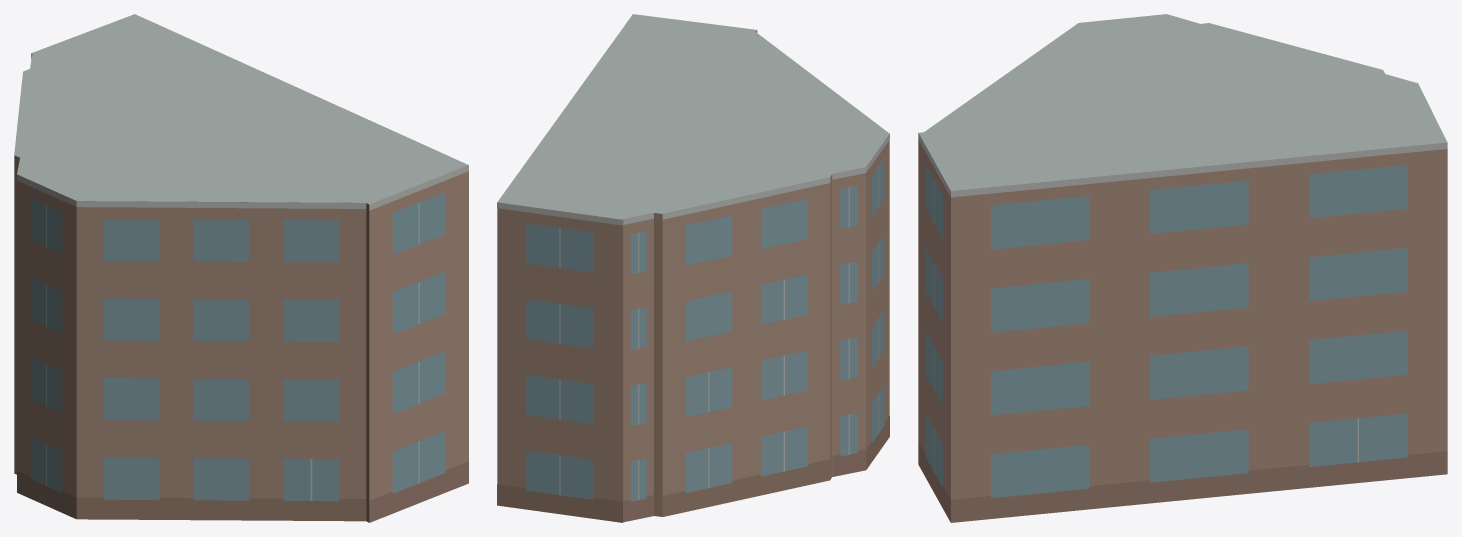
The model's file is survey-upis-32772530.glb.
3 views of the same model, side by side, from view 1: azimuth 30°, elevation 25°; view 2: azimuth 150°, elevation 25°; view 3: azimuth 270°, elevation 25° (orthographic). The views are drawn at different scales.
Parts seen in each view (by area): view 1: survey-upis-32772530.tmp; view 2: survey-upis-32772530.tmp; view 3: survey-upis-32772530.tmp.
Part boxes in pixels (x1,y1,x2,y2): survey-upis-32772530.tmp: (14, 14, 468, 522); survey-upis-32772530.tmp: (497, 14, 889, 522); survey-upis-32772530.tmp: (918, 14, 1447, 522).
Bounding box in the file's own units: 14.56 × 12.7 × 18.37.
